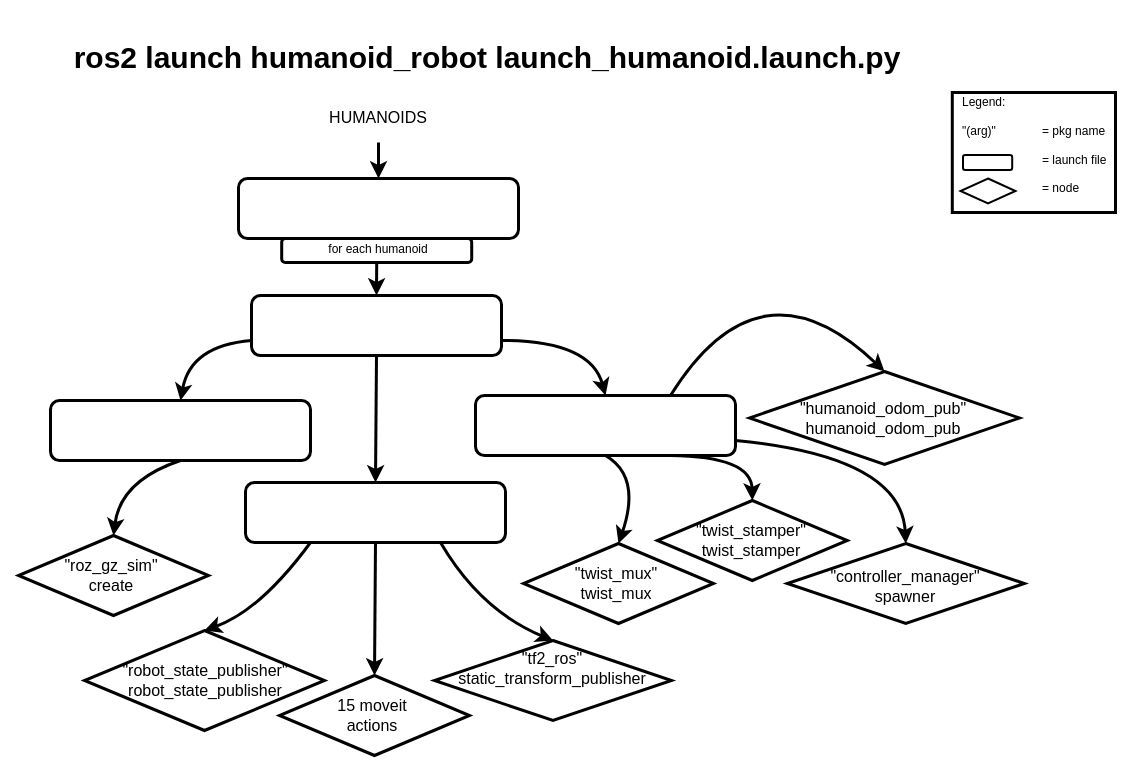
Image size: 1134x774. Some labels were removed from this diagram. The shapes that lost their labels are listed below. From the top down, each one's centre as x and y in pixels, then its label:
the point at 378,208: "humanoid_robot" multiple_humanoid_spawn.launch.py
the point at 376,325: "humanoid_robot" launch_humanoid.launch.py
the point at 180,430: "humanoid_suport_moveit_config" launch_gz.launch.py
the point at 605,425: "humanoid_suport_moveit_config" launch_controllers.launch.py
the point at 375,512: "humanoid_suport_moveit_config" launch_moveit.launch.py
